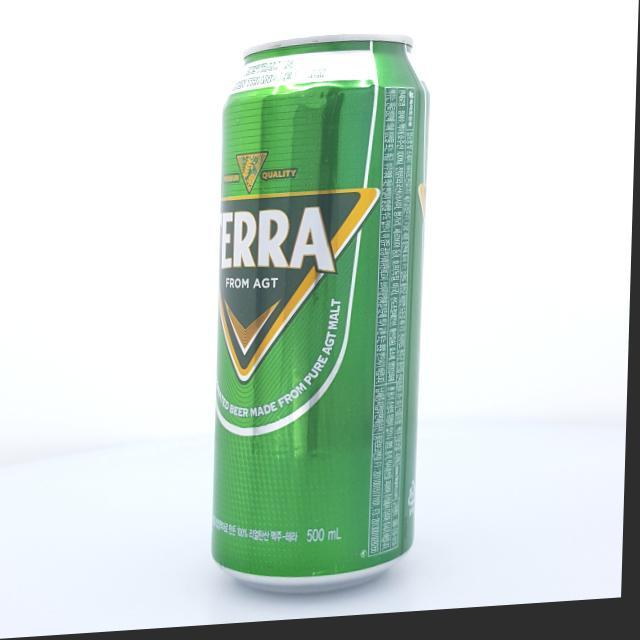beer-can: (211, 33, 433, 604)
